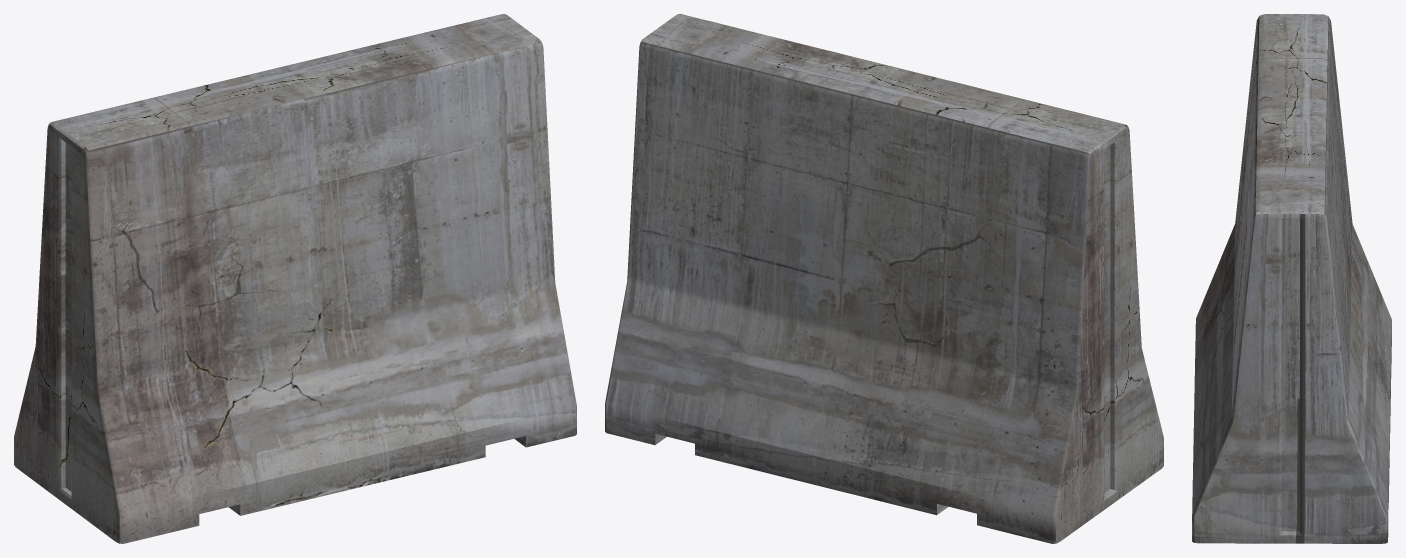
Rendered from City_Barricade005.fbx.
3 renders of one model, left to right at view 1: azimuth 30°, elevation 25°; view 2: azimuth 150°, elevation 25°; view 3: azimuth 270°, elevation 25°, orthographic. The views are drawn at different scales.
Visible parts, largest first — view 1: City_Barricade_005:Barricade_005; view 2: City_Barricade_005:Barricade_005; view 3: City_Barricade_005:Barricade_005.
Boxes of the visible parts, <box> form: City_Barricade_005:Barricade_005: <box>14,14,576,543</box>; City_Barricade_005:Barricade_005: <box>605,14,1163,543</box>; City_Barricade_005:Barricade_005: <box>1192,14,1391,543</box>.
Size of the model in its own units: 150 by 115 by 63.12.
Materials: 1 (1 with a texture image).
